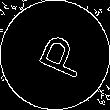P_NW: (24, 28, 86, 82)
